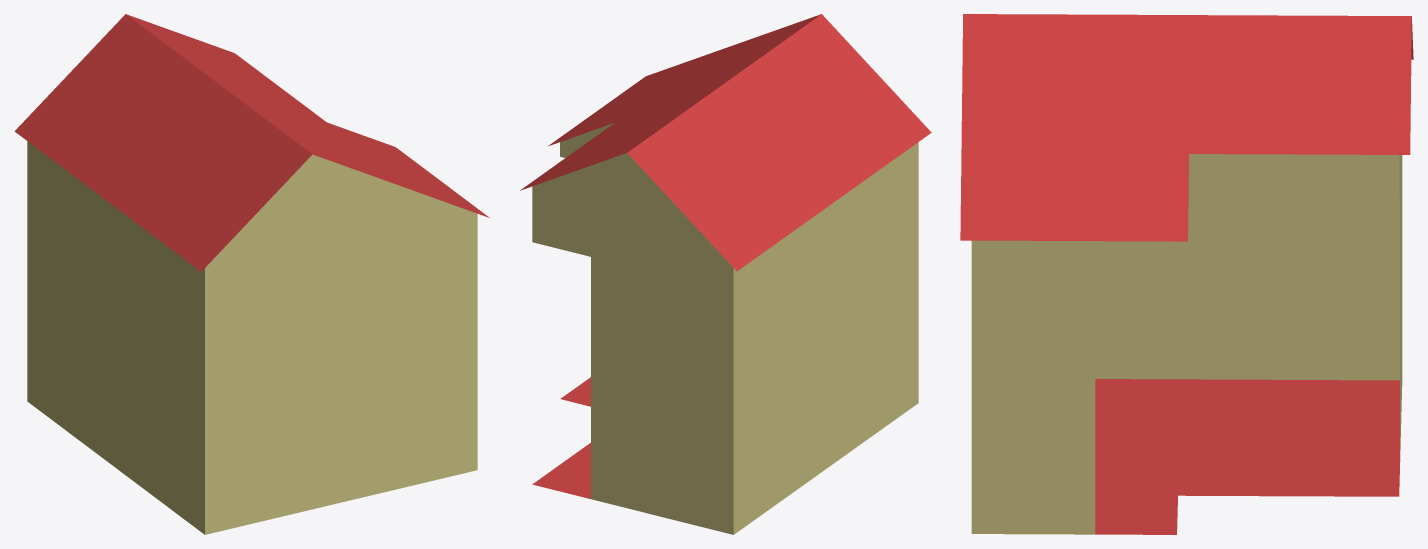
3 renders of one model, left to right at view 1: azimuth 30°, elevation 25°; view 2: azimuth 150°, elevation 25°; view 3: azimuth 270°, elevation 25°, orthographic. The views are drawn at different scales.
Bounding box in the file's own units: 8.83 × 10.18 × 10.48.
